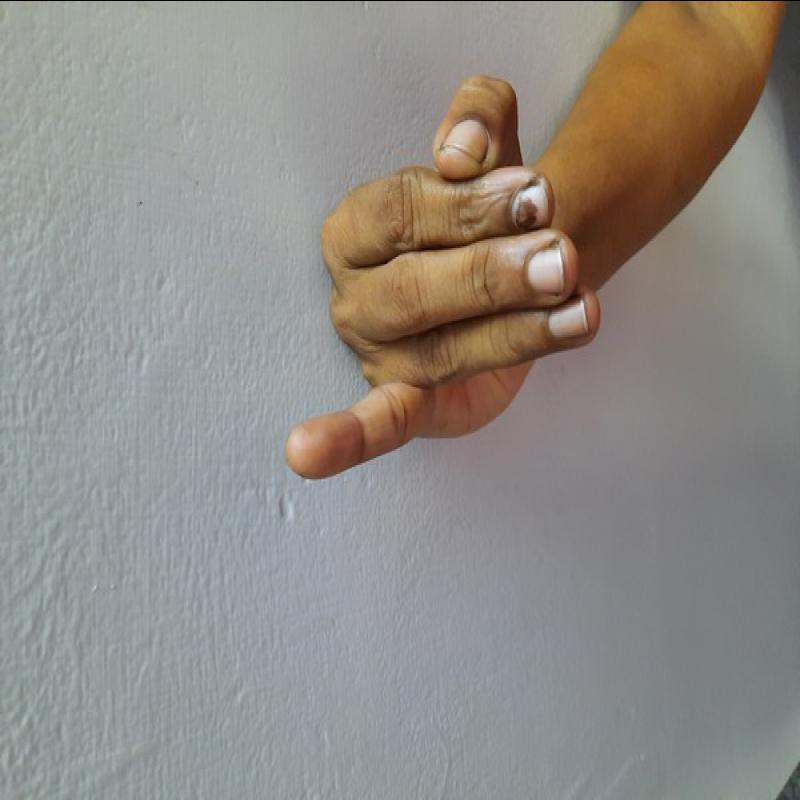Kartharee Mukham: (263, 71, 605, 493)
